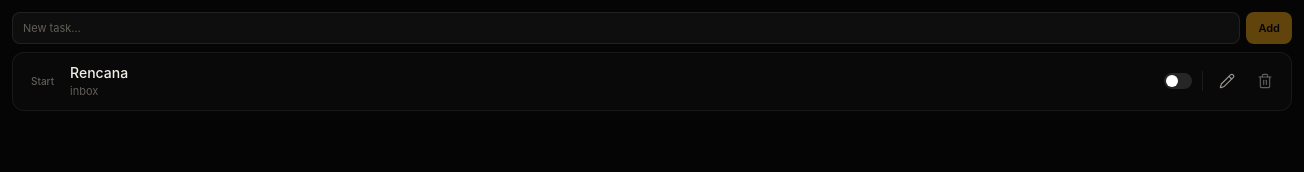
Test: tasks panel failure feedback › surfaces a failed status update instead of failing silently
This screenshot has width=1304, height=172.
Click the button with aria-label "mark rencana doing".
click(42, 81)  # box [25,69,60,93]
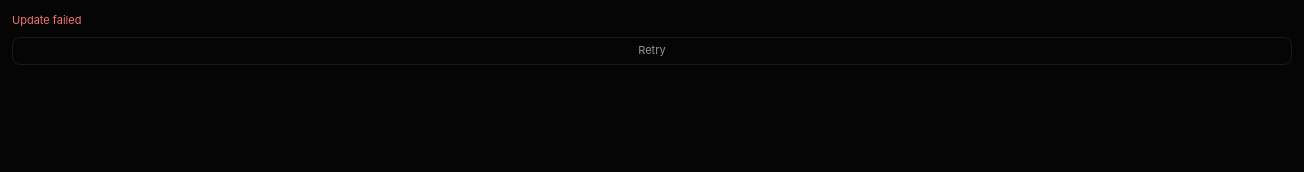
Expected: the message reads "Update failed", [12,13,81,27]
